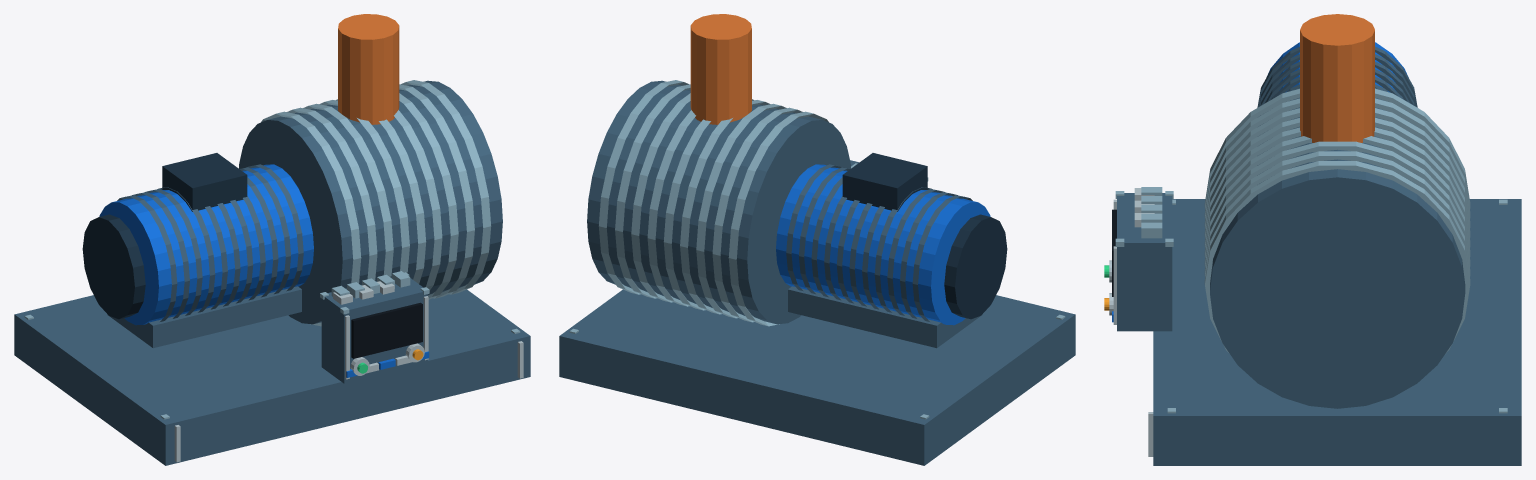
File: 26_L72_VacuumBackingPump.fbx
3 renders of one model, left to right at view 1: azimuth 30°, elevation 25°; view 2: azimuth 150°, elevation 25°; view 3: azimuth 270°, elevation 25°, orthographic. The views are drawn at different scales.
Parts seen in each view (by area): view 1: VacuumBackingPump; view 2: VacuumBackingPump; view 3: VacuumBackingPump.
Boxes of the visible parts, x1=… form: VacuumBackingPump: x1=14, y1=14, x2=530, y2=465; VacuumBackingPump: x1=559, y1=14, x2=1075, y2=465; VacuumBackingPump: x1=1104, y1=14, x2=1521, y2=465.
Size of the model in its own units: 205 by 170 by 167.
